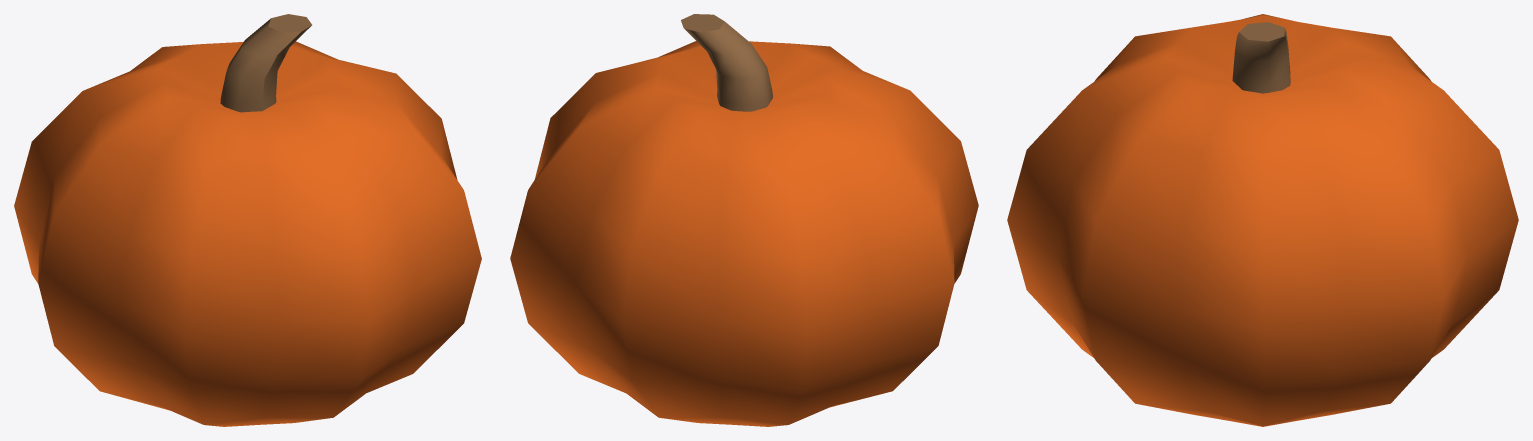
The model's file is MINI_PUMPKIN.glb.
3 renders of one model, left to right at view 1: azimuth 30°, elevation 25°; view 2: azimuth 150°, elevation 25°; view 3: azimuth 270°, elevation 25°, orthographic. The views are drawn at different scales.
Visible parts, largest first — view 1: plastic_0, wood_1; view 2: plastic_0, wood_1; view 3: plastic_0, wood_1.
Part boxes in pixels (x1,y1,x2,y2): plastic_0: [14, 41, 481, 426]; wood_1: [220, 14, 311, 112]; plastic_0: [510, 41, 978, 426]; wood_1: [681, 14, 772, 111]; plastic_0: [1007, 14, 1518, 426]; wood_1: [1232, 22, 1290, 93].
Size of the model in its own units: 0.32 by 0.259 by 0.32.
